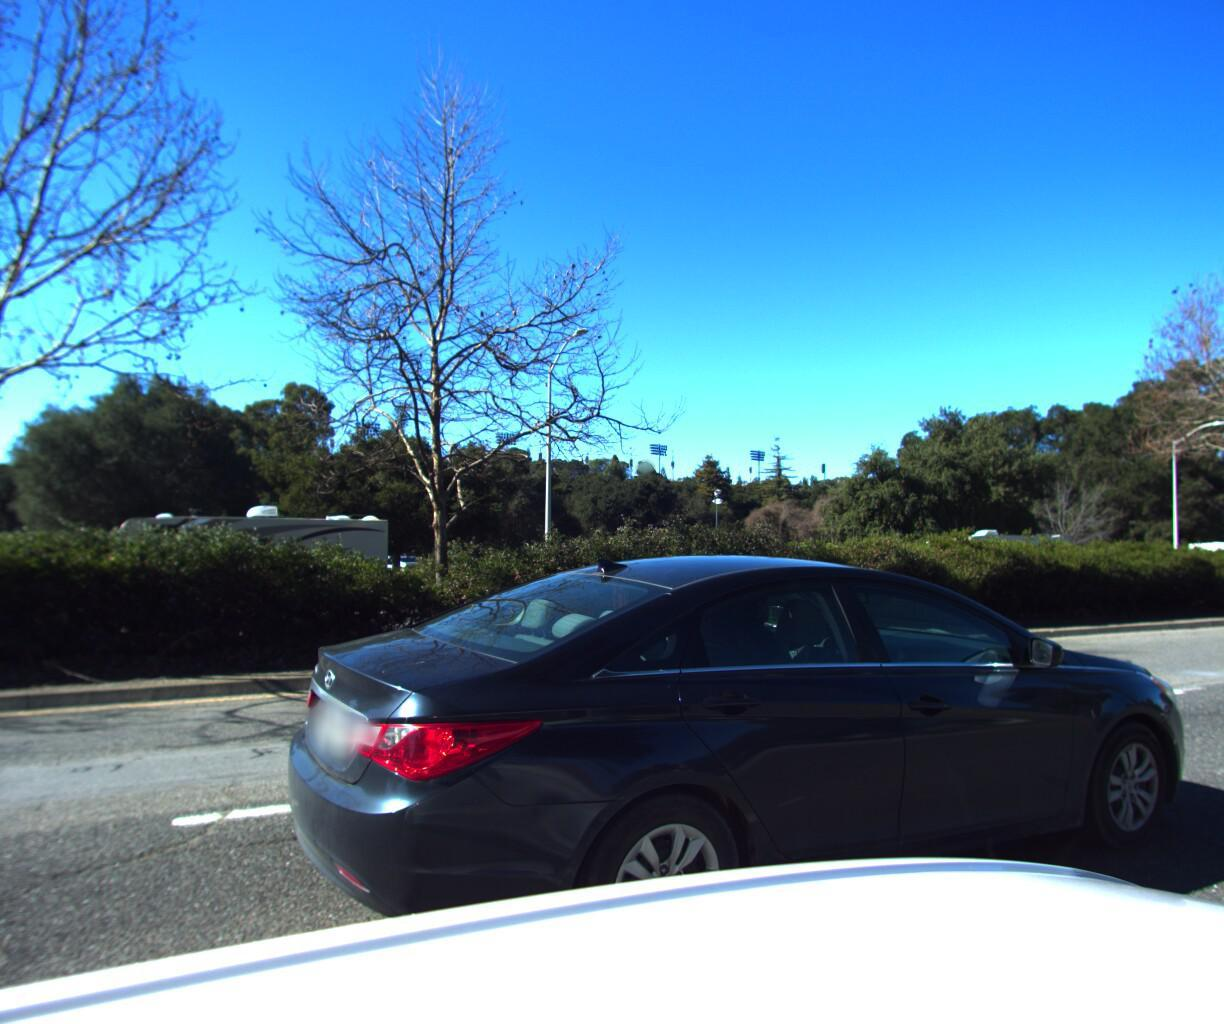car: (252, 551, 1209, 1024)
other_vehicle: (104, 494, 397, 638), (906, 527, 1074, 606), (1168, 534, 1224, 595)
